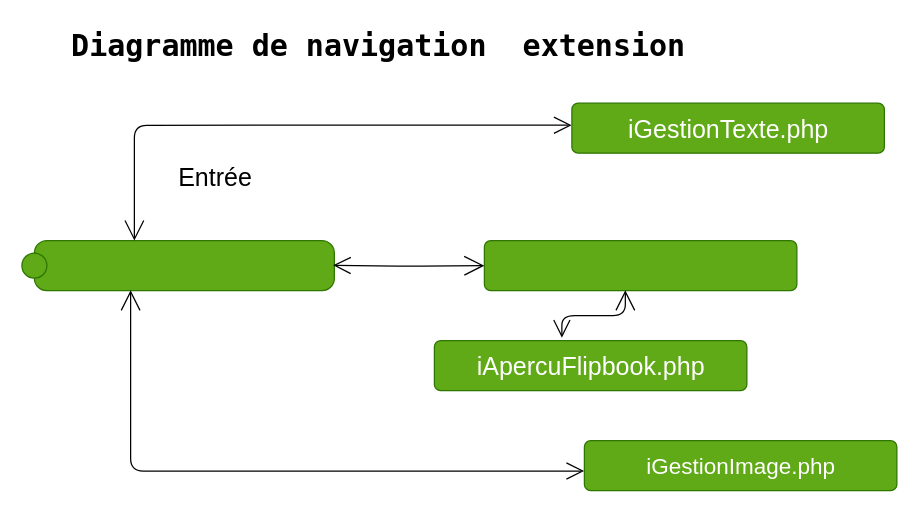
This 919x514 diagram has some shape labels left out. Here are the shapes that lost their labels. From the top down, the centre of each, then its label:
At point 177,265: "index.php".
At point 640,265: "iGestionContenuMag.php".
